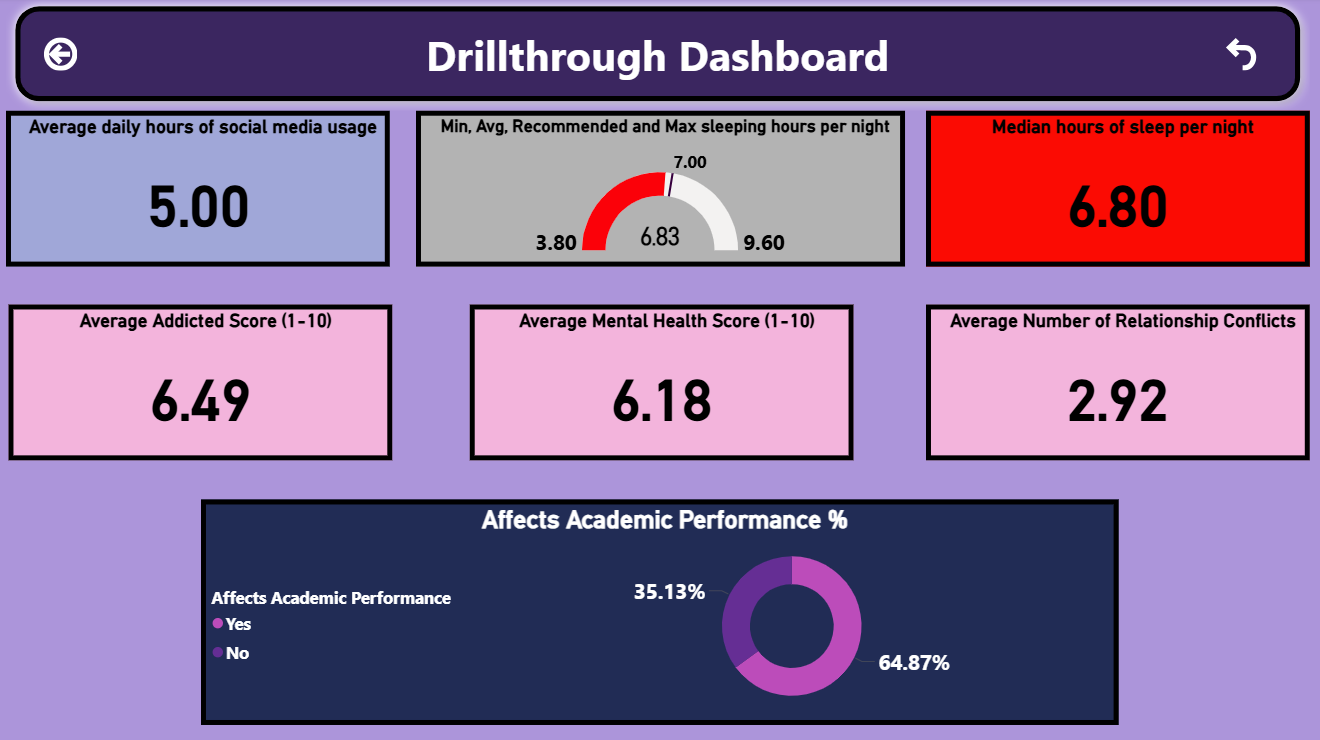

This screenshot's page, from the dashboard's own definition file:
{"tool":"powerbi","page":{"name":"Drillthrough Page","canvas":[1280,720],"ordinal":1},"visuals":[{"type":"shape","box":[10.1,0,1258.1,109.6],"z":0},{"type":"card","title":"Average daily hours of social media usage","fields":{"Values":["Avg(Students Social Media Addiction.Avg_Daily_Usage_Hours)"]},"box":[10.1,109.6,370.8,150],"z":1000},{"type":"card","title":"Median hours of sleep per night","fields":{"Values":["Median(Students Social Media Addiction.Sleep_Hours_Per_Night)"]},"box":[897.4,109.6,370.8,150],"z":2000},{"type":"gauge","title":"Min, Avg, Recommended and Max sleeping hours per night","fields":{"Y":["Avg(Students Social Media Addiction.Sleep_Hours_Per_Night)"],"MinValue":["Min(Students Social Media Addiction.Sleep_Hours_Per_Night)1"],"MaxValue":["Max(Students Social Media Addiction.Sleep_Hours_Per_Night)2"],"TargetValue":["select"]},"box":[405.4,109.6,471.8,150],"z":3000},{"type":"card","title":"Average Addicted Score (1-10)","fields":{"Values":["Avg(Students Social Media Addiction.Addicted_Score)"]},"box":[11.5,297.2,370.8,150],"z":4000},{"type":"card","title":"Average Mental Health Score (1-10)","fields":{"Values":["Avg(Students Social Media Addiction.Mental_Health_Score)"]},"box":[457.4,297.2,370.8,150],"z":5000},{"type":"card","title":"Average Number of Relationship Conflicts","fields":{"Values":["Avg(Students Social Media Addiction.Conflicts_Over_Social_Media)"]},"box":[897.4,297.2,370.8,150],"z":6000},{"type":"donutChart","title":"Affects Academic Performance %","fields":{"Category":["Students Social Media Addiction.Affects_Academic_Performance"],"Y":["Students Social Media Addiction.Affects_Academic_Performance_%"]},"box":[197.7,484.8,885.9,217.9],"z":7000},{"type":"actionButton","box":[41.8,34.6,50.5,40.4],"z":8000},{"type":"actionButton","box":[1182.3,35,47.1,39.8],"z":9000}]}

Visuals, with their boxes in screenshot pixels (x1, y1, x2, y2), scaled from the page's 1280x720 canvas onto the 1320x740 screenshot:
shape: select_region(10, 0, 1308, 113)
"Average daily hours of social media usage" card: select_region(10, 113, 393, 267)
"Median hours of sleep per night" card: select_region(925, 113, 1308, 267)
"Min, Avg, Recommended and Max sleeping hours per night" gauge: select_region(418, 113, 905, 267)
"Average Addicted Score (1-10)" card: select_region(12, 305, 394, 460)
"Average Mental Health Score (1-10)" card: select_region(472, 305, 854, 460)
"Average Number of Relationship Conflicts" card: select_region(925, 305, 1308, 460)
"Affects Academic Performance %" donutChart: select_region(204, 498, 1117, 722)
actionButton: select_region(43, 36, 95, 77)
actionButton: select_region(1219, 36, 1268, 77)
